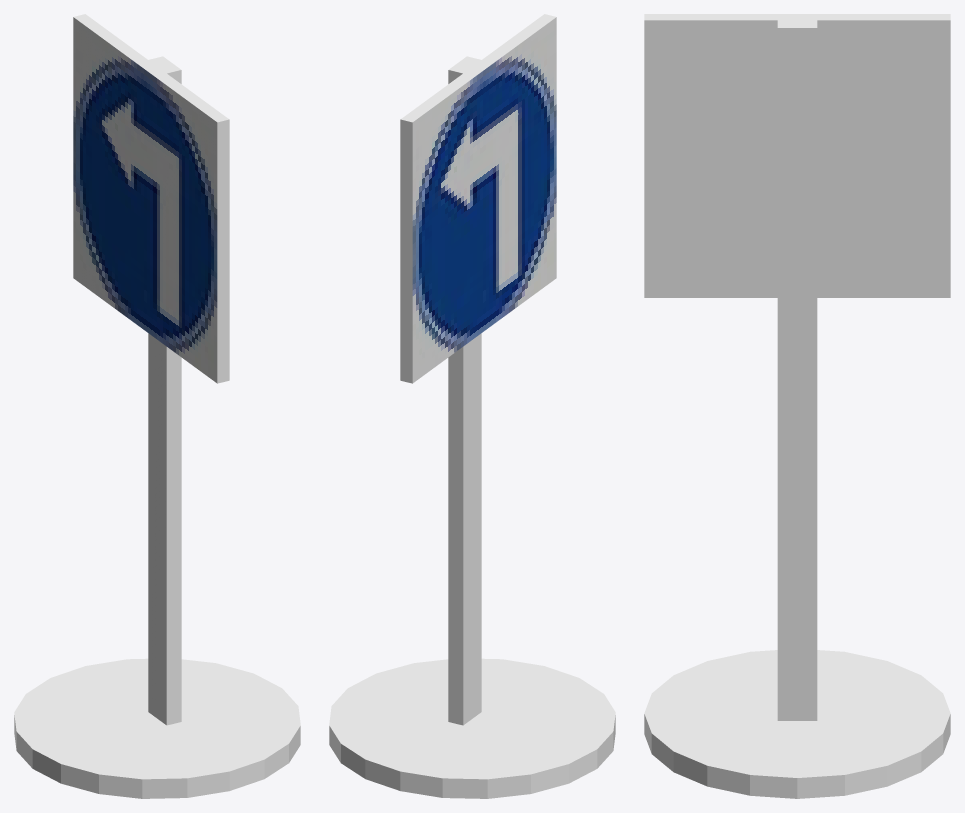
The model's file is SignLeft.dae.
The picture shows the model from 3 angles, left to right: view 1: azimuth 30°, elevation 25°; view 2: azimuth 150°, elevation 25°; view 3: azimuth 270°, elevation 25°; orthographic projection. The views are drawn at different scales.
Parts seen in each view (by area): view 1: SignLeft; view 2: SignLeft; view 3: SignLeft.
Part boxes in pixels (x1,y1,x2,y2): SignLeft: (14, 14, 300, 798); SignLeft: (329, 14, 615, 798); SignLeft: (644, 14, 950, 798).
Bounding box in the file's own units: 0.07 × 0.07 × 0.18.
